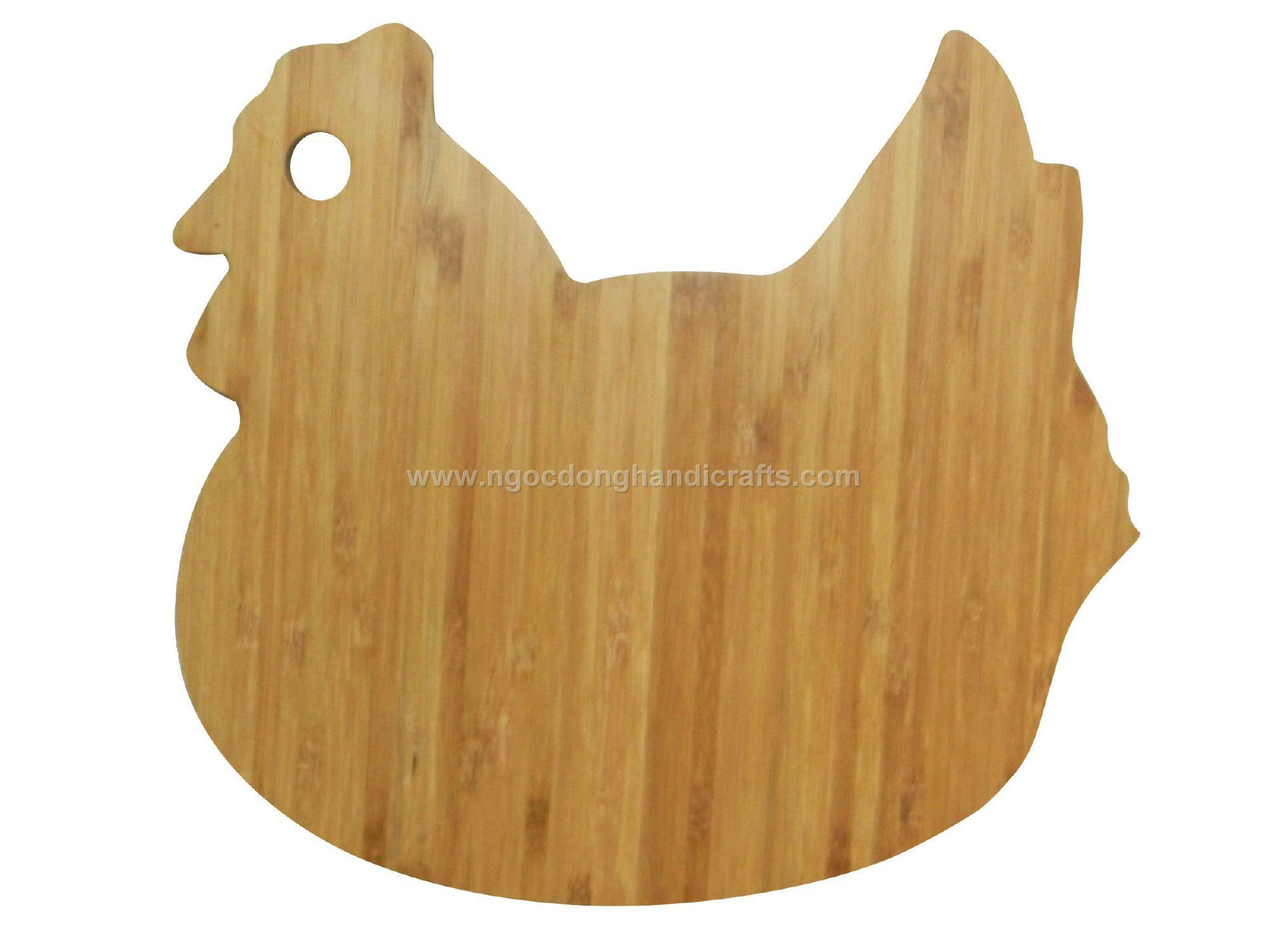gloved_hand: (149, 5, 1148, 922)
